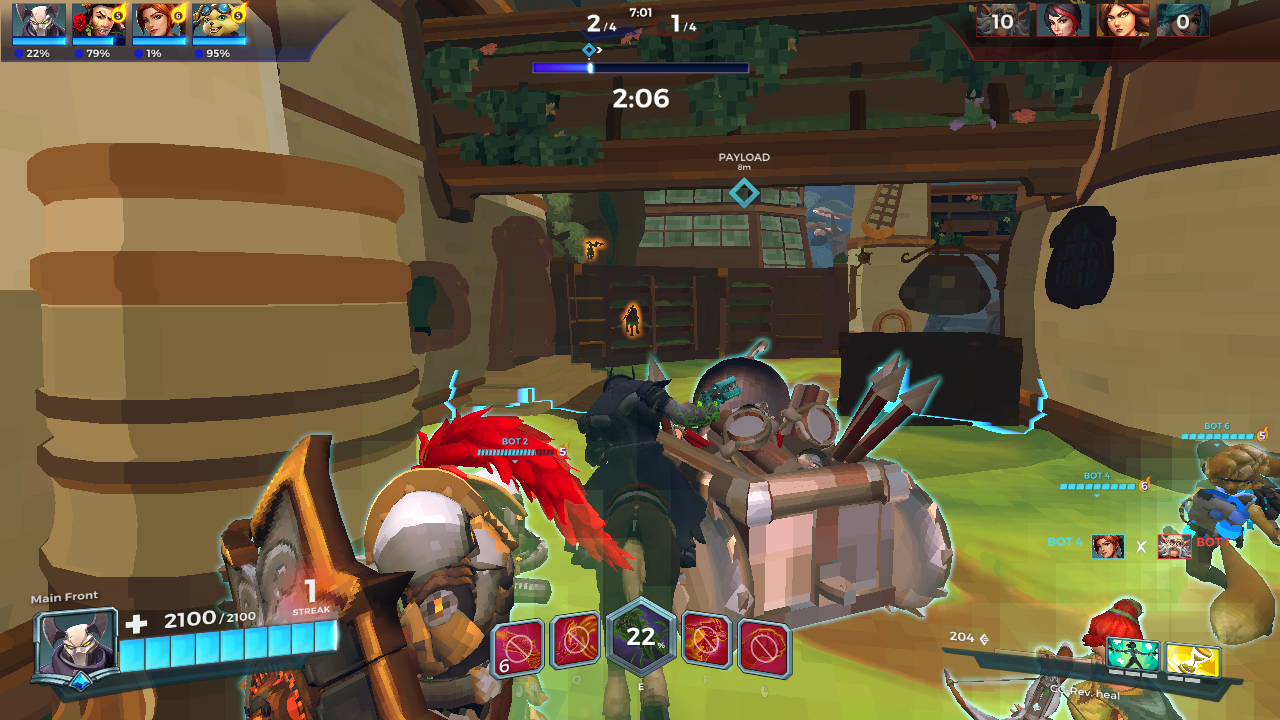model: (615, 298, 651, 341), (578, 237, 606, 265)
